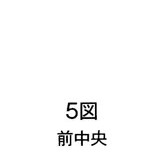enseble_chain: (76, 104, 99, 122), (62, 102, 80, 121), (89, 133, 108, 147), (64, 131, 73, 147), (57, 131, 65, 147)
